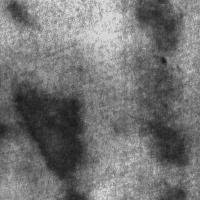patches: (0, 43, 128, 193), (13, 88, 83, 194), (0, 135, 45, 199), (139, 110, 187, 166), (131, 1, 181, 53), (8, 1, 27, 23)
